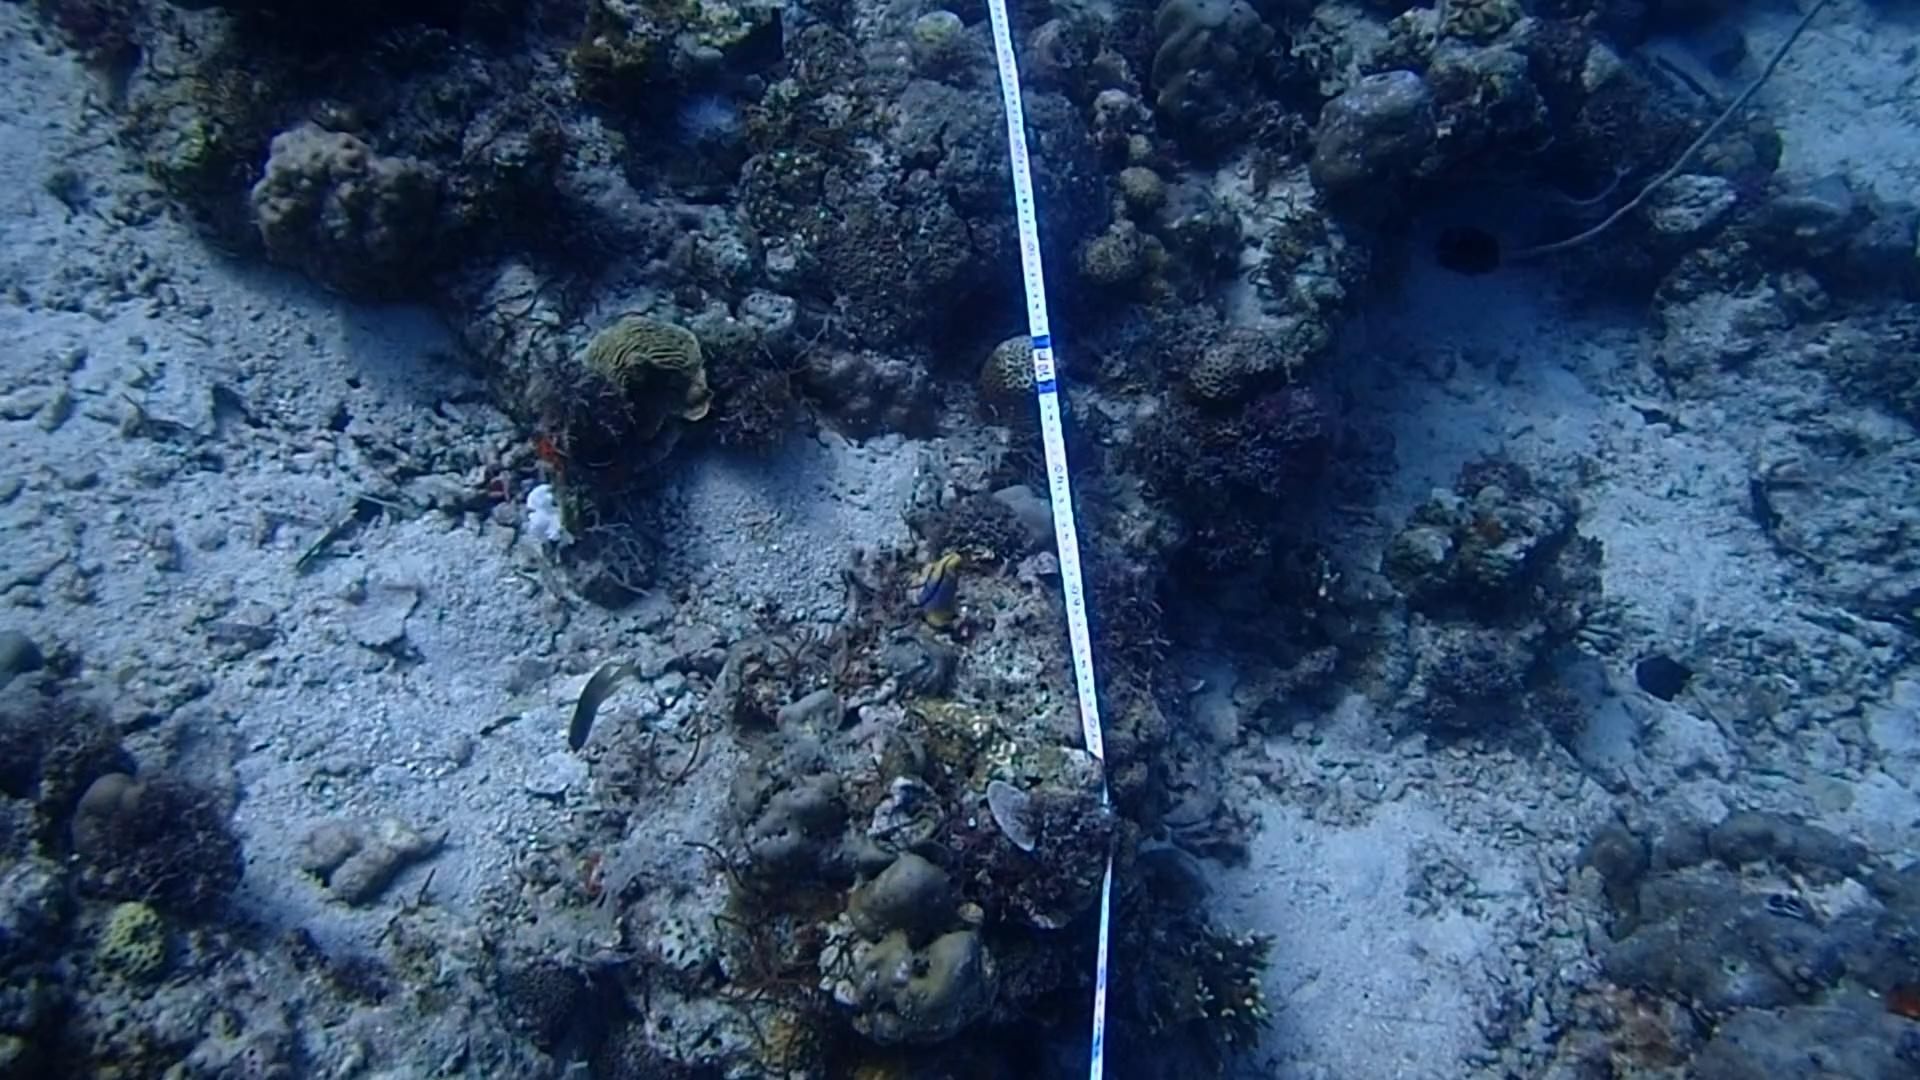Dark Fish: (1420, 210, 1513, 286), (717, 5, 798, 80), (1631, 649, 1696, 712)
Light Fish: (551, 647, 641, 758)
